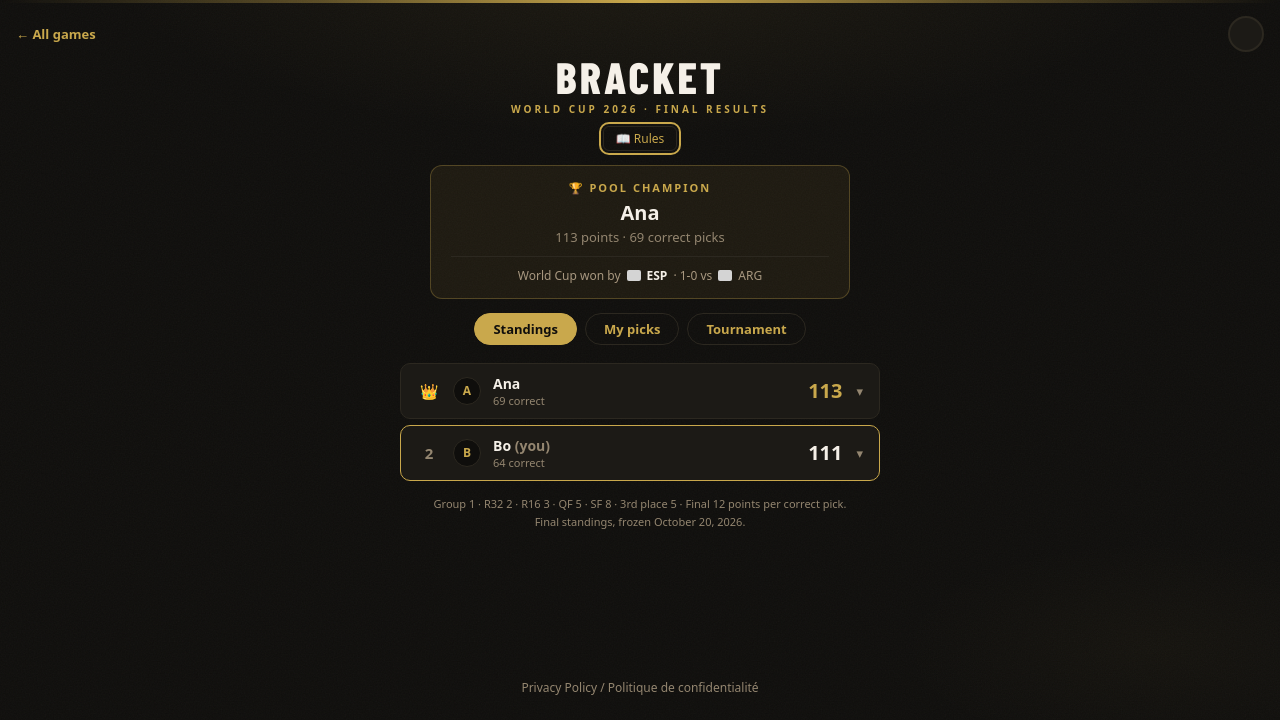
Test: Bracket: modal focus (F167) › moves focus into the rules dialog, keeps Tab there and returns it on Escape
Click the button "📖 Rules" at (640, 138), box [603,126,677,151]
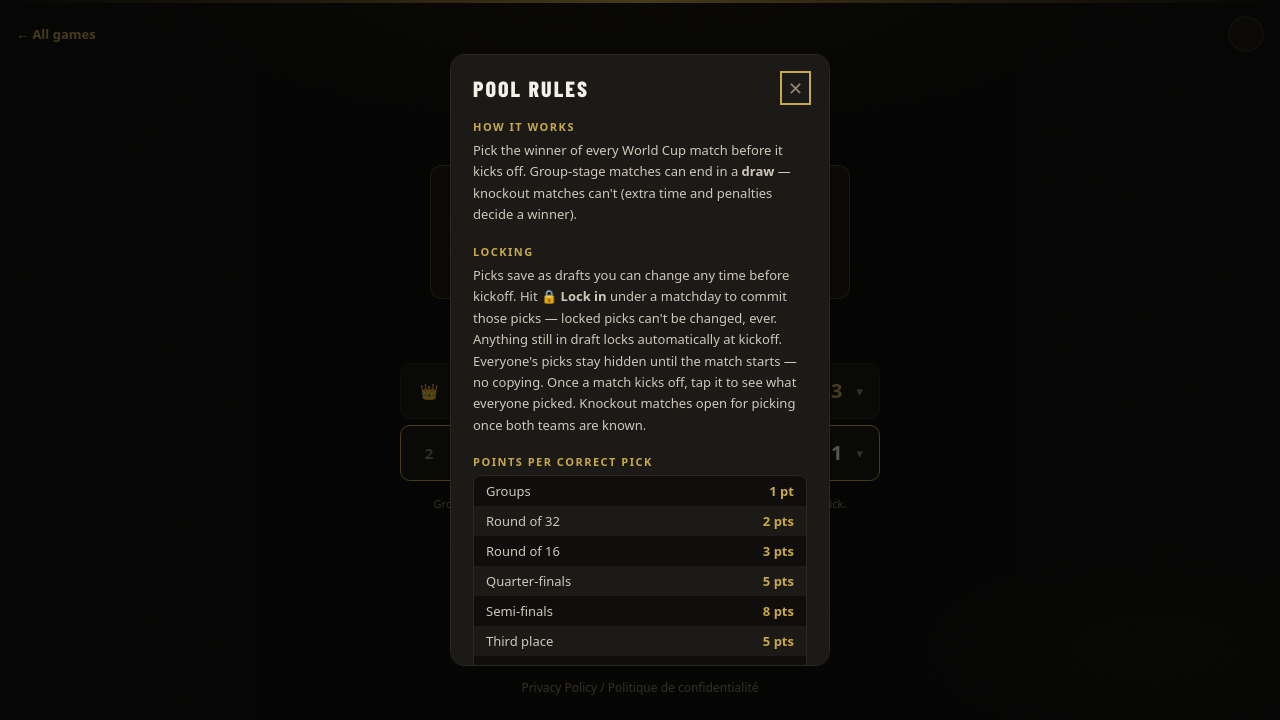
Press Tab in the button "✕", box [784,75,807,101]
Press Tab in the button "✕", box [784,75,807,101]
Press Escape in the button "✕", box [784,75,807,101]
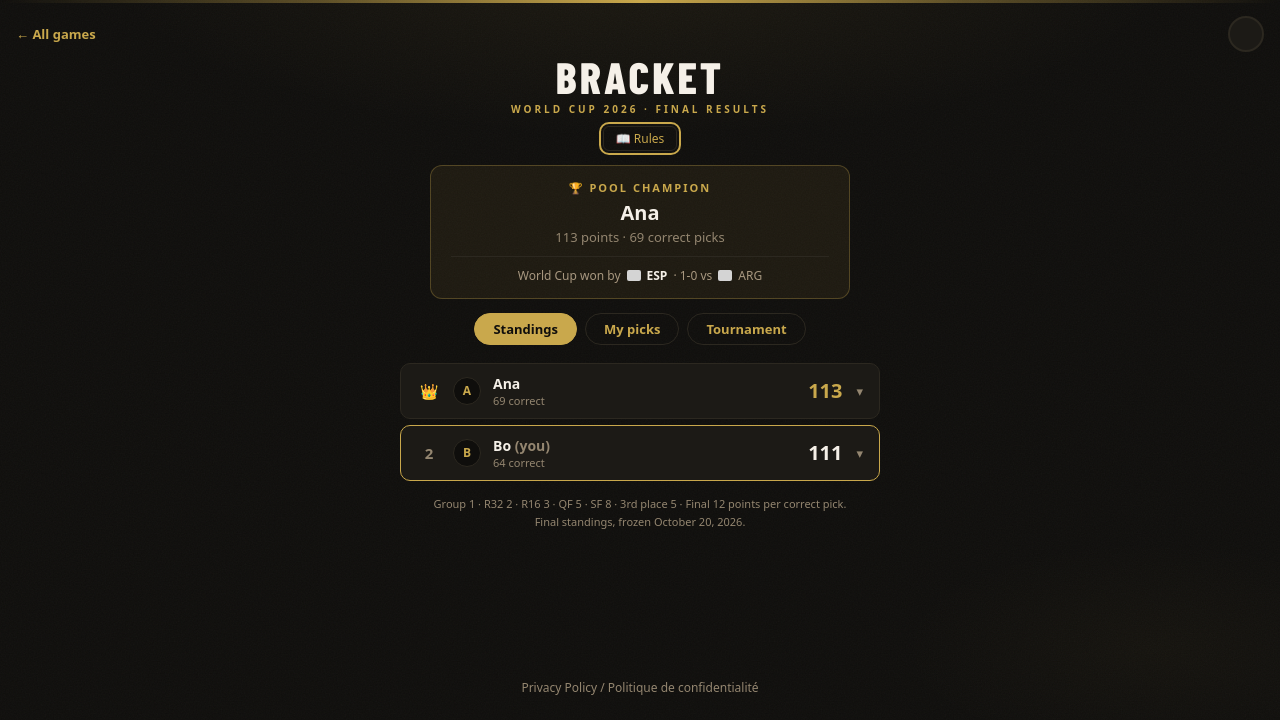
Expected: the dialog is gone
